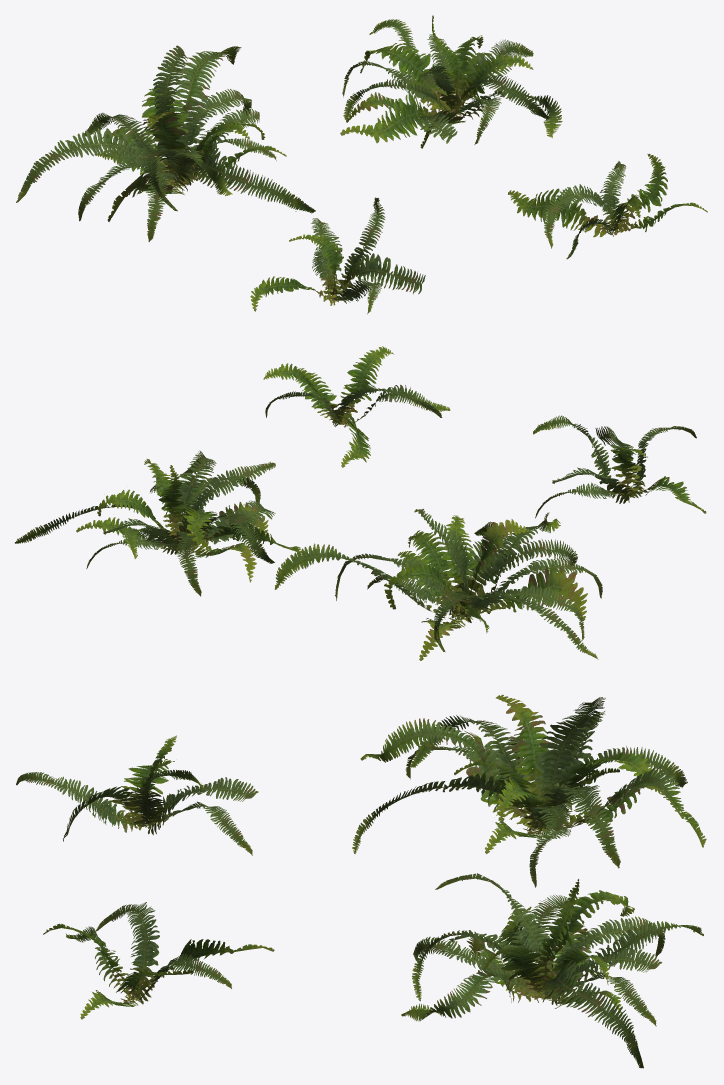
Rendered from fern_02.glb.
The picture shows the model from 3 angles, top to bottom: view 1: azimuth 30°, elevation 25°; view 2: azimuth 150°, elevation 25°; view 3: azimuth 270°, elevation 25°; orthographic projection. The views are drawn at different scales.
Parts seen in each view (by area): view 1: fern_02_b, fern_02_c, fern_02_a, fern_02_d; view 2: fern_02_b, fern_02_c, fern_02_d, fern_02_a; view 3: fern_02_b, fern_02_c, fern_02_a, fern_02_d.
Part boxes in pixels (x1,y1,x2,y2): fern_02_b: (16,45,315,241); fern_02_c: (340,15,562,148); fern_02_a: (250,197,425,314); fern_02_d: (508,153,707,259); fern_02_b: (274,508,602,660); fern_02_c: (15,450,301,596); fern_02_d: (263,346,450,467); fern_02_a: (533,415,706,518); fern_02_b: (352,694,706,887); fern_02_c: (401,873,703,1068); fern_02_a: (16,735,258,855); fern_02_d: (43,902,274,1019).
Size of the model in its own units: 1.97 by 0.4277 by 1.72.
1 material, 1 textured.
